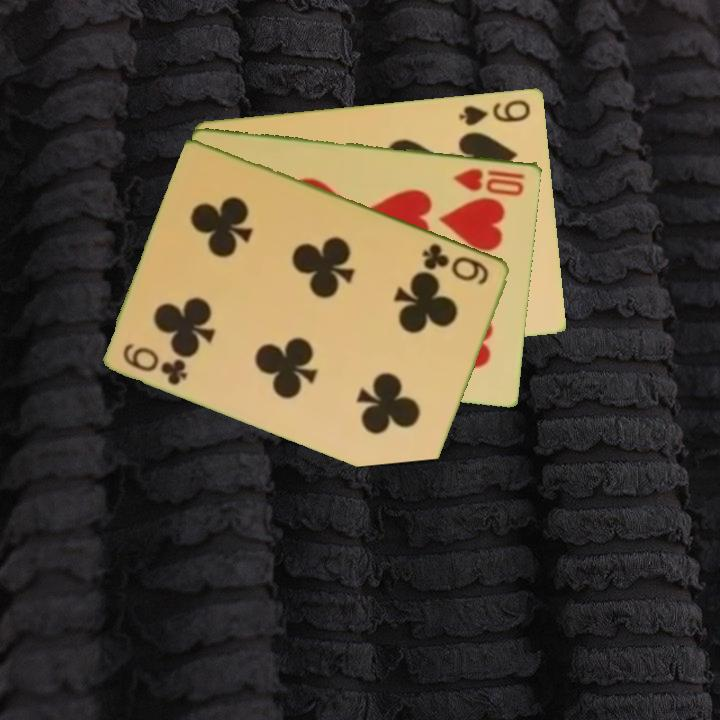10h: (450, 164, 529, 197)
6c: (418, 239, 493, 288), (119, 339, 191, 388)
9s: (456, 95, 534, 128)
